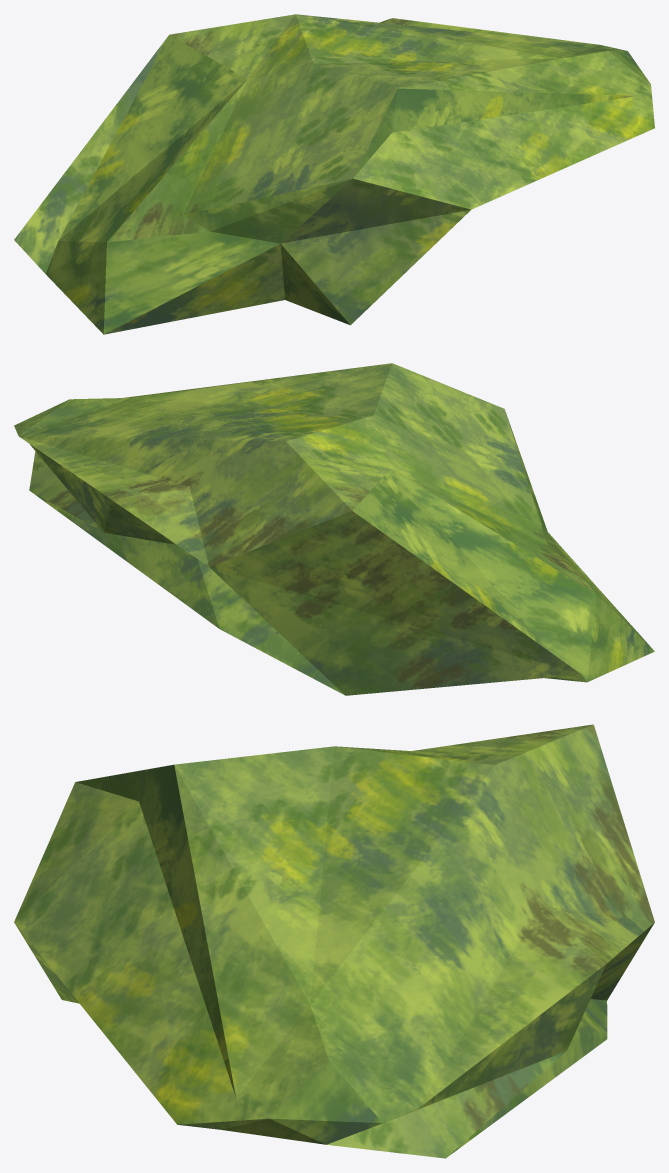
File: foliage10.glb
3 views of the same model, one above another, from view 1: azimuth 30°, elevation 25°; view 2: azimuth 150°, elevation 25°; view 3: azimuth 270°, elevation 25° (orthographic). The views are drawn at different scales.
Parts seen in each view (by area): view 1: foliage10; view 2: foliage10; view 3: foliage10.
Part boxes in pixels (x1,y1,x2,y2): foliage10: [14, 14, 654, 334]; foliage10: [14, 363, 654, 695]; foliage10: [14, 724, 654, 1158].
Size of the model in its own units: 21.48 by 7.26 by 13.1.
Materials: 1 (1 with a texture image).
